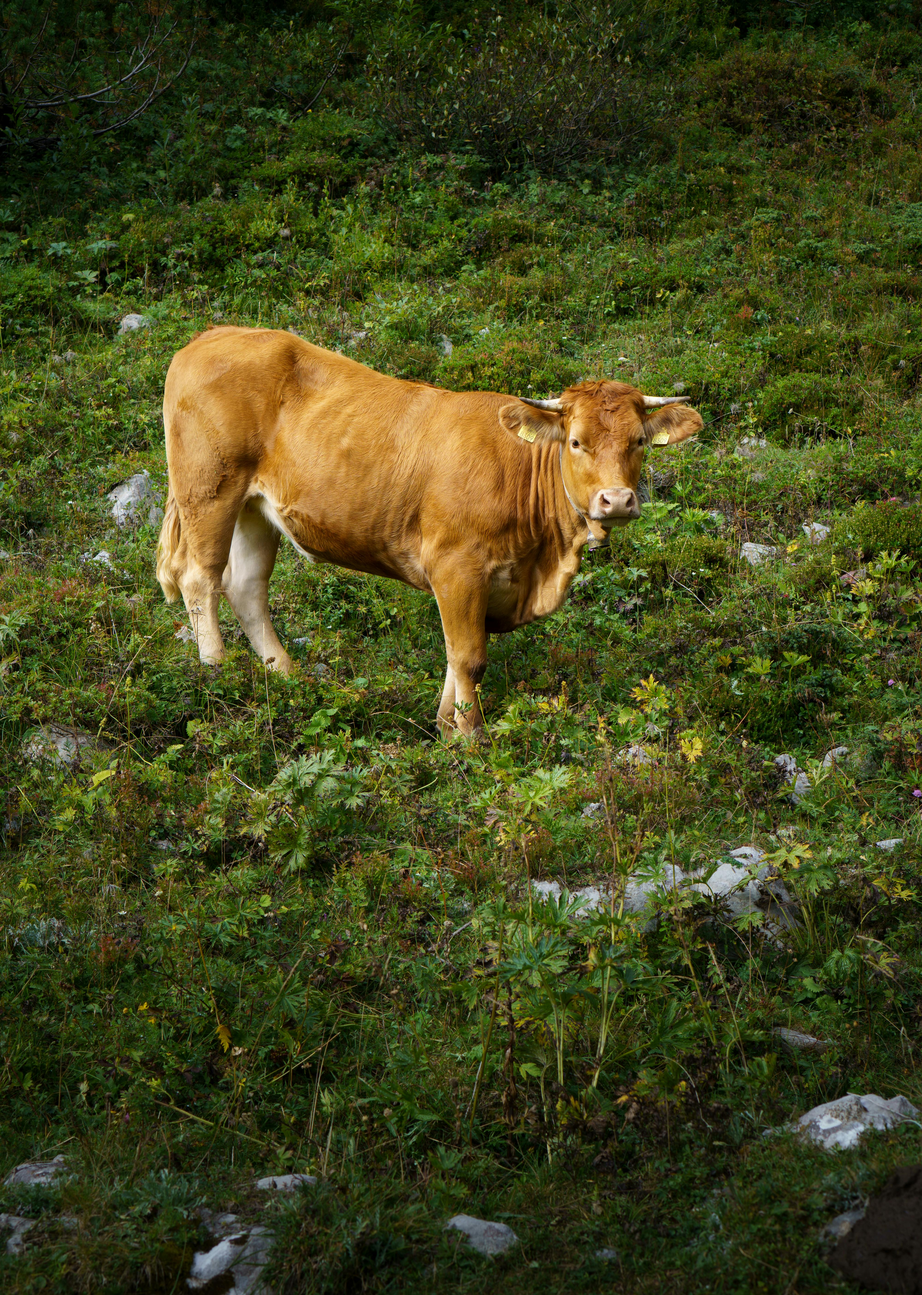bovino: (163, 327, 702, 748)
